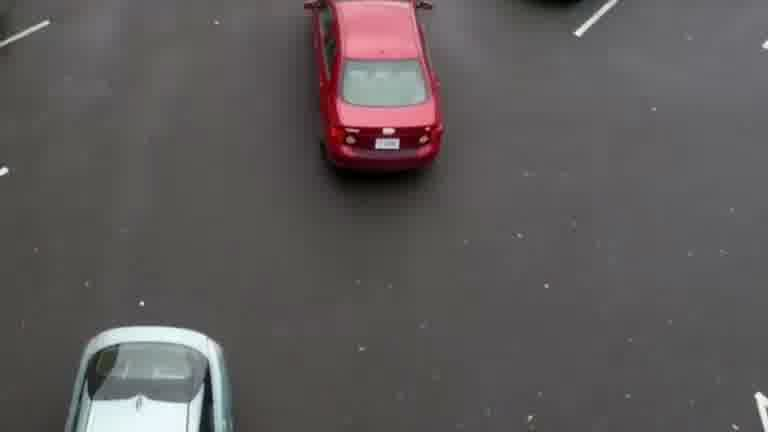car: (296, 4, 474, 199), (52, 321, 282, 432)
